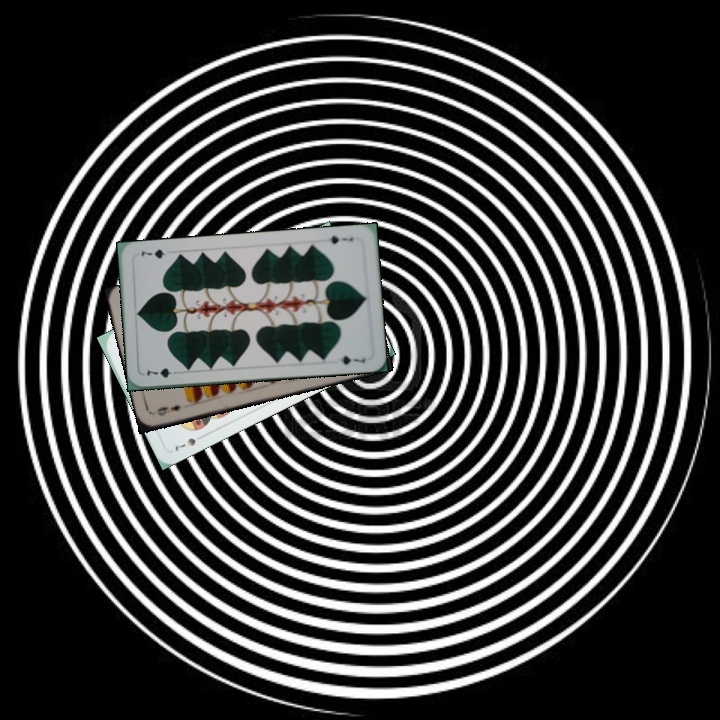E9: (152, 400, 183, 419)
G7: (143, 364, 182, 380), (326, 232, 355, 247)
S7: (169, 431, 207, 454)
